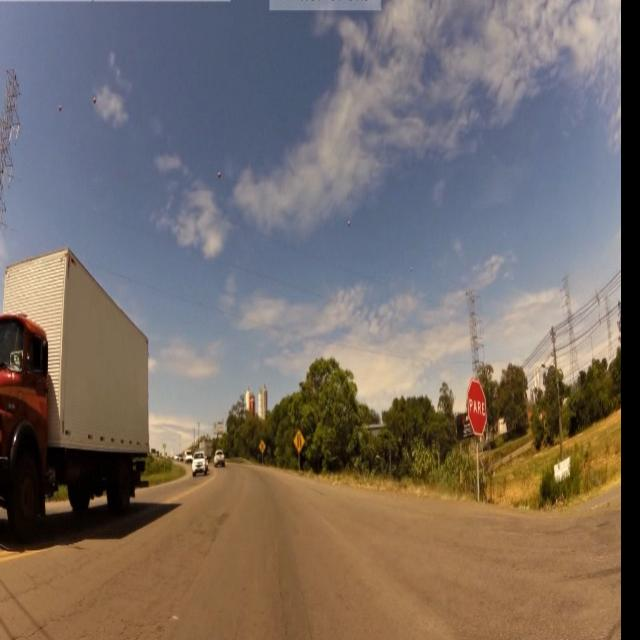R-1: (465, 380, 490, 440)
